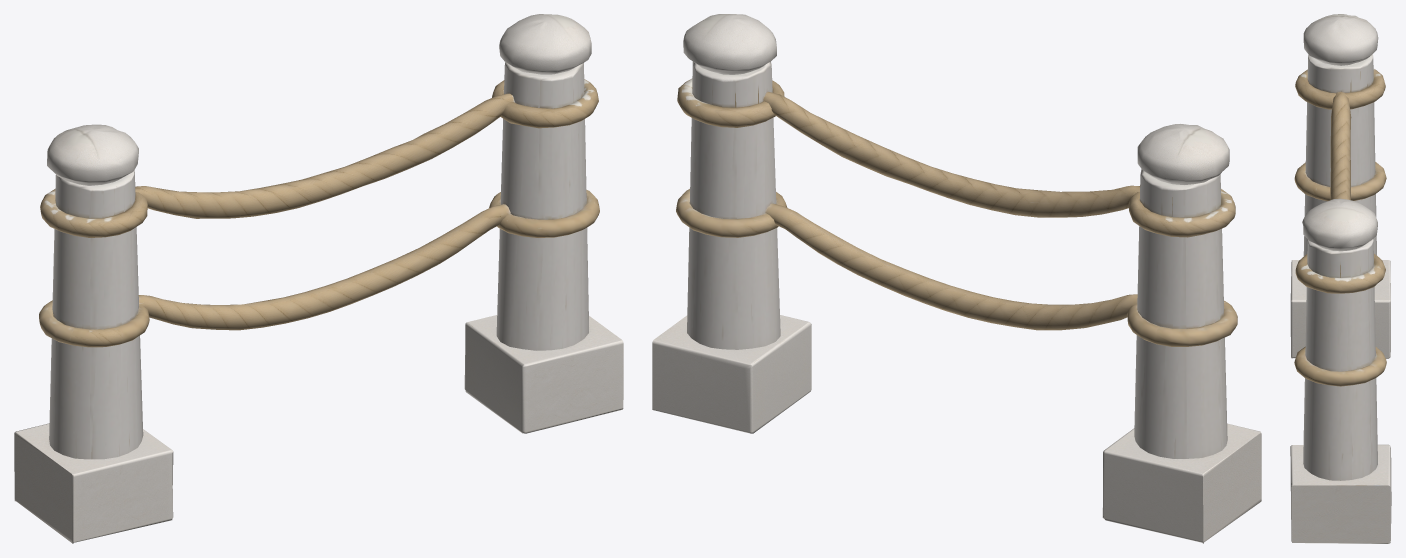
File: railing_segment.glb
The picture shows the model from 3 angles, left to right: view 1: azimuth 30°, elevation 25°; view 2: azimuth 150°, elevation 25°; view 3: azimuth 270°, elevation 25°; orthographic projection. The views are drawn at different scales.
Bounding box in the file's own units: 1 × 0.6641 × 0.1899.
1 material, 1 textured.
